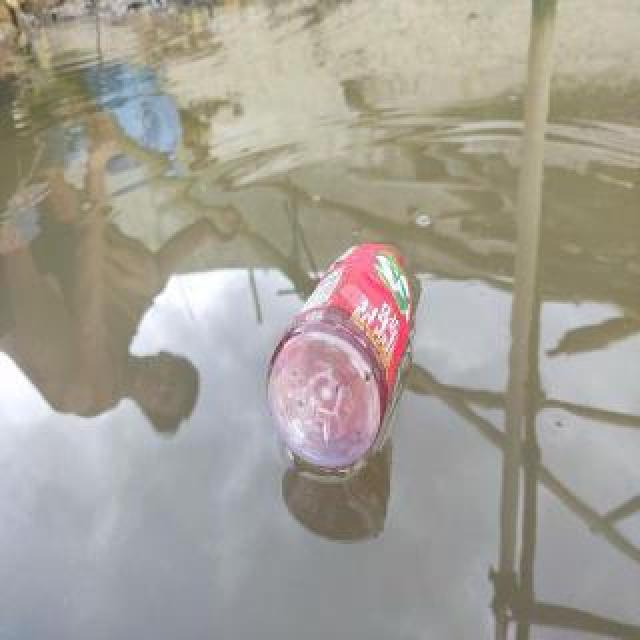Bottle: (255, 232, 431, 478)
